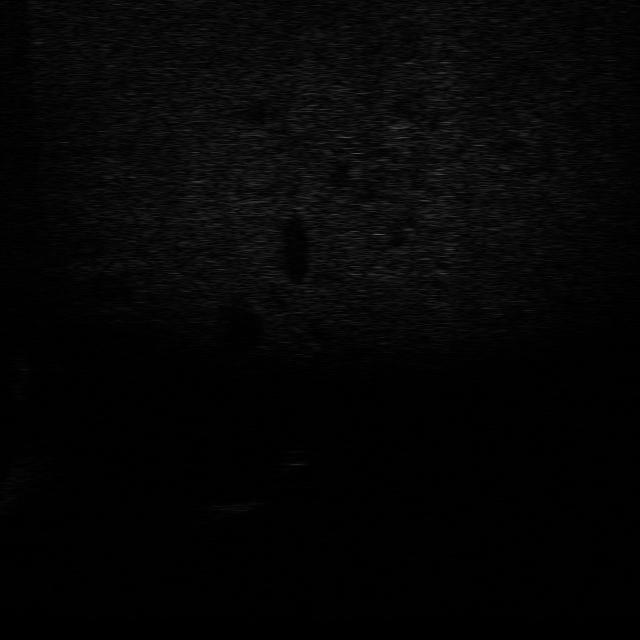ball: (266, 443, 315, 473)
square cage: (191, 491, 274, 529)
